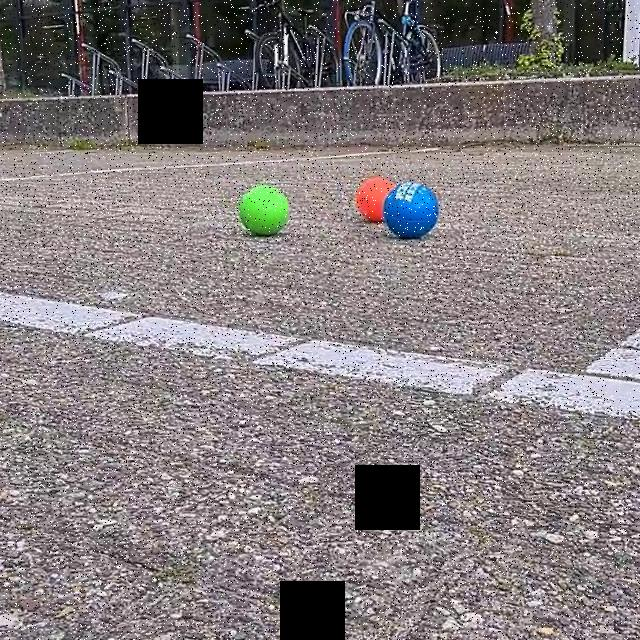ball: (382, 177, 441, 242), (238, 180, 292, 239), (358, 174, 397, 221)
